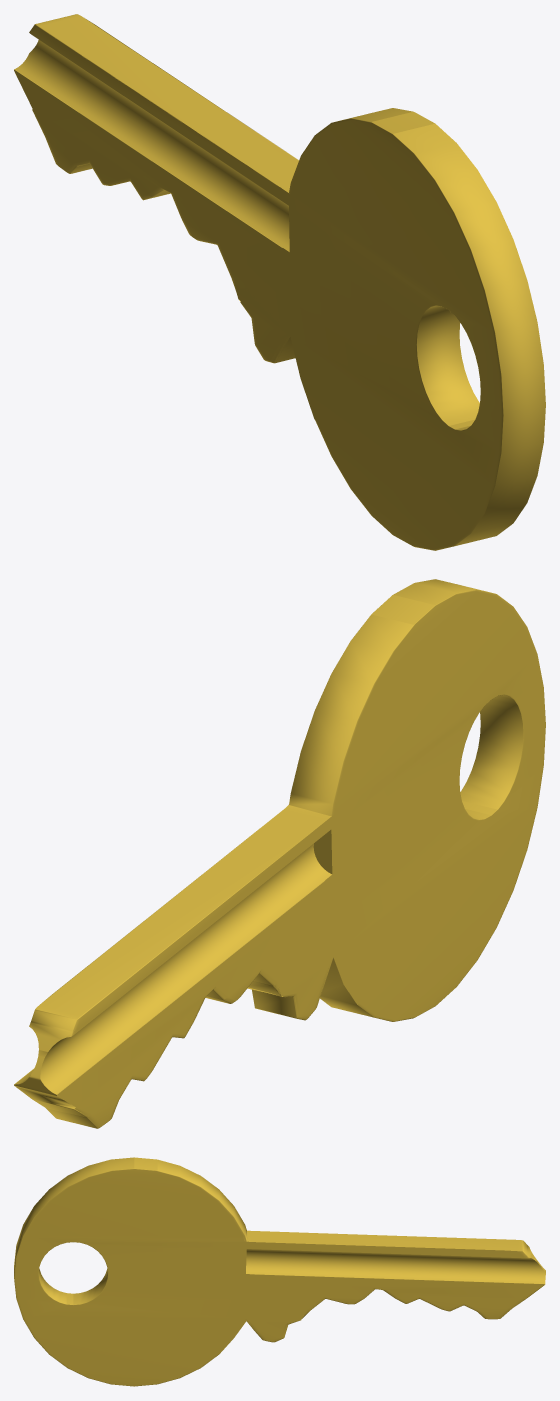
File: Key.dae
3 renders of one model, top to bottom at view 1: azimuth 30°, elevation 25°; view 2: azimuth 150°, elevation 25°; view 3: azimuth 270°, elevation 25°, orthographic. The views are drawn at different scales.
Visible parts, largest first — view 1: Key; view 2: Key; view 3: Key.
Boxes of the visible parts, <box> form: Key: <box>14,14,545,550</box>; Key: <box>14,579,545,1128</box>; Key: <box>14,1157,545,1386</box>.
Bounding box in the file's own units: 0.1809 × 3.56 × 1.61.
